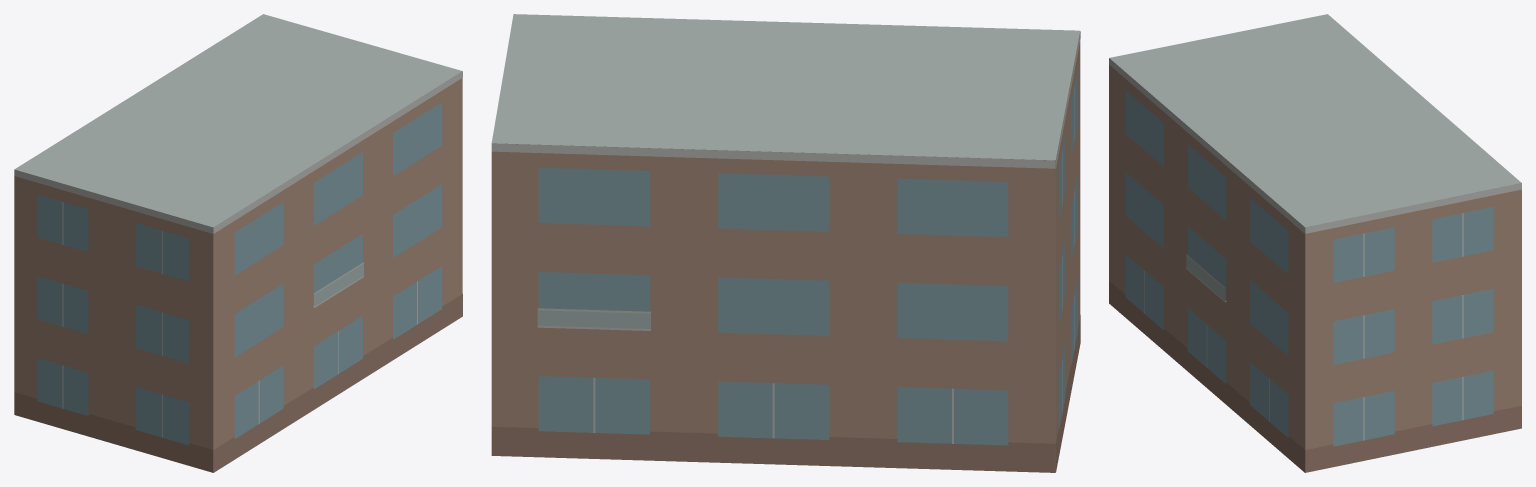
Rendered from survey-upis-32906225.glb.
3 views of the same model, side by side, from view 1: azimuth 30°, elevation 25°; view 2: azimuth 150°, elevation 25°; view 3: azimuth 270°, elevation 25° (orthographic). The views are drawn at different scales.
Visible parts, largest first — view 1: survey-upis-32906225.tmp; view 2: survey-upis-32906225.tmp; view 3: survey-upis-32906225.tmp.
Boxes of the visible parts, bbox=[...] form: survey-upis-32906225.tmp: bbox=[14, 14, 462, 472]; survey-upis-32906225.tmp: bbox=[491, 14, 1080, 472]; survey-upis-32906225.tmp: bbox=[1109, 14, 1521, 472].
Bounding box in the file's own units: 17.07 × 9.15 × 13.95.
